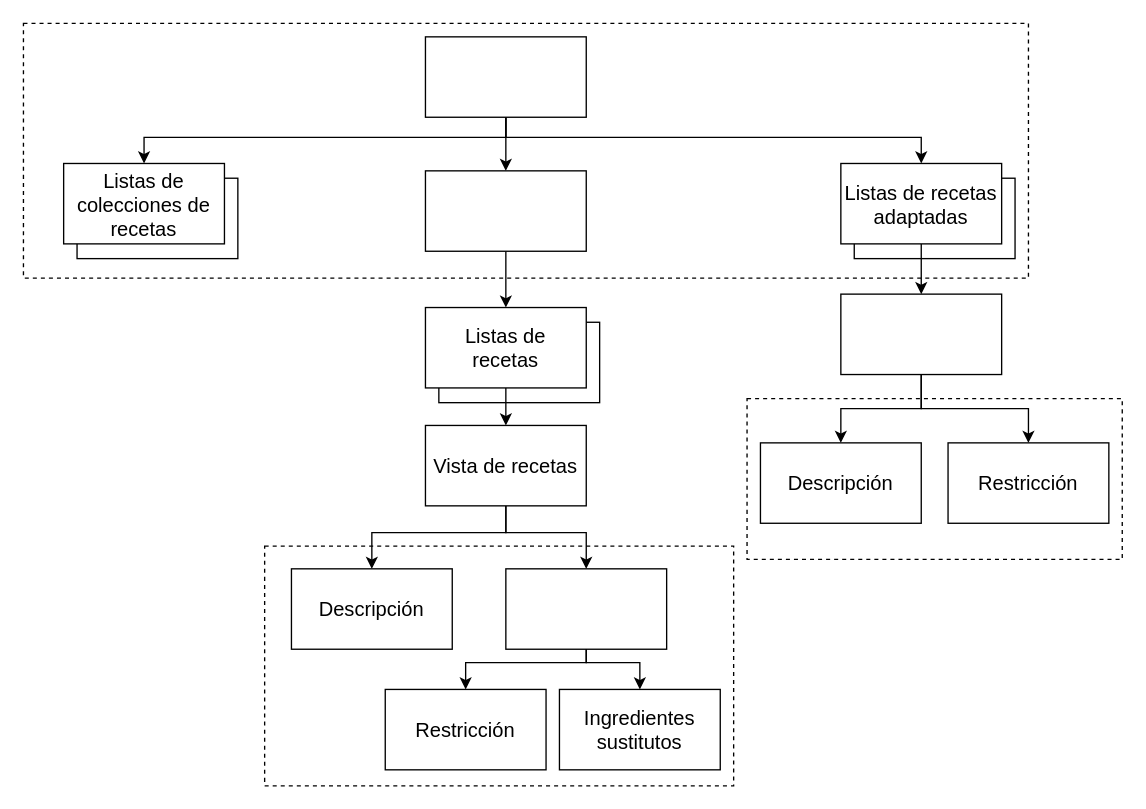
The diagram is 1146 pixels wide and 809 high, and some of its shapes have lost their labels. The box of each missing label's shape, as (x1, y1, x2, y2) in pixels:
Adaptar: (505, 567, 667, 649)
Buscar: (424, 170, 586, 251)
HOME: (424, 36, 586, 117)
Vista de recetas adaptadas: (840, 293, 1002, 375)
